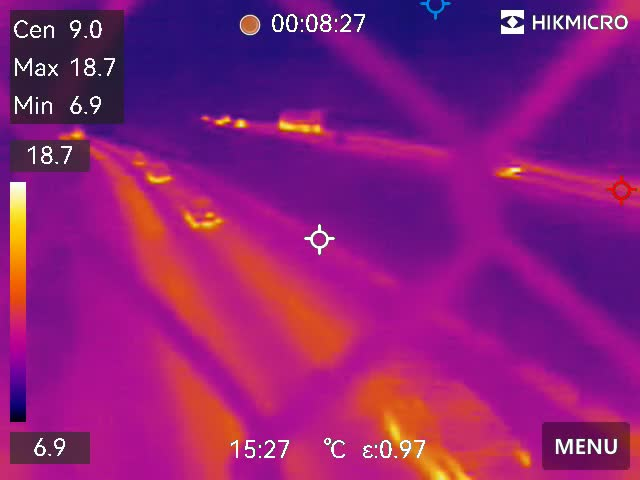heavyTruck: (274, 105, 326, 133)
vehicle: (183, 196, 228, 236), (147, 159, 172, 186), (231, 116, 244, 127)
